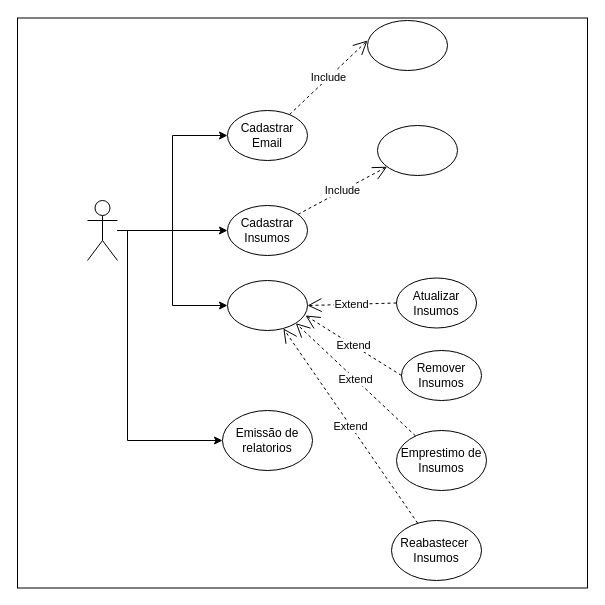
The diagram is 605 pixels wide and 605 high, and some of its shapes have lost their labels. Here are the shapes that lost their labels. From the top down, the box of each, then its label:
(366, 20, 448, 70): Checar lista de emails
(376, 124, 458, 176): Checar Insumos
(226, 280, 308, 330): Pesquisar Insumos
